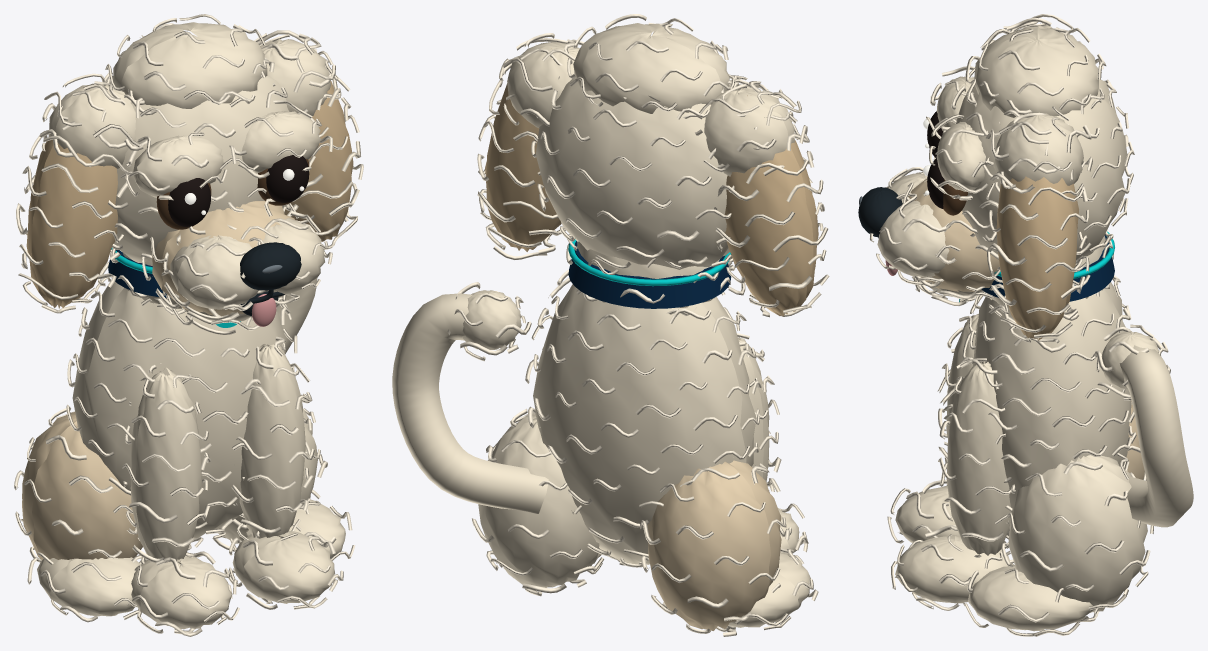
Rendered from nexi-original.glb.
The picture shows the model from 3 angles, left to right: view 1: azimuth 30°, elevation 25°; view 2: azimuth 150°, elevation 25°; view 3: azimuth 270°, elevation 25°; orthographic projection. The views are drawn at different scales.
Parts seen in each view (by area): view 1: seated_torso_sculpt, front_foreleg_sculpt (×2), long_wavy_ear_sculpt (×2), left_seated_haunch_sculpt, soft_front_paw_sculpt (×2), fluffy_cranium_sculpt, wavy_crown_sculpt, cream_ear_root_sculpt (×2), long_wavy_ear_curled_locks (×2), front_foreleg_curled_locks (×2), left_hind_foot_sculpt, left_whisker_muzzle_sculpt (+25 smaller); view 2: seated_torso_sculpt, fluffy_cranium_sculpt, long_wavy_ear_sculpt (×2), left_seated_haunch_sculpt, curl_tail_core, right_seated_haunch_sculpt, wavy_crown_sculpt, cream_ear_root_sculpt (×2), long_wavy_ear_curled_locks (×2), seated_torso_curled_locks, navy_tech_collar, fluffy_cranium_curled_locks (+13 smaller); view 3: seated_torso_sculpt, right_seated_haunch_sculpt, long_wavy_ear_sculpt, front_foreleg_sculpt (×2), fluffy_cranium_sculpt, curl_tail_core, wavy_crown_sculpt, soft_front_paw_sculpt (×2), right_hind_foot_sculpt, cream_ear_root_sculpt, long_wavy_ear_curled_locks, seated_torso_curled_locks (+23 smaller).
Boxes of the visible parts, <box> form: seated_torso_sculpt: <box>72,281,286,538</box>; front_foreleg_sculpt (×2): <box>130,344,305,564</box>; long_wavy_ear_sculpt (×2): <box>26,81,353,308</box>; left_seated_haunch_sculpt: <box>22,412,142,559</box>; soft_front_paw_sculpt (×2): <box>131,530,334,629</box>; fluffy_cranium_sculpt: <box>106,75,289,262</box>; wavy_crown_sculpt: <box>113,22,267,108</box>; cream_ear_root_sculpt (×2): <box>48,38,330,168</box>; long_wavy_ear_curled_locks (×2): <box>16,34,363,313</box>; front_foreleg_curled_locks (×2): <box>122,336,314,565</box>; left_hind_foot_sculpt: <box>37,557,140,616</box>; left_whisker_muzzle_sculpt: <box>170,235,258,309</box>; seated_torso_sculpt: <box>533,284,756,564</box>; fluffy_cranium_sculpt: <box>536,77,737,269</box>; long_wavy_ear_sculpt (×2): <box>485,48,818,315</box>; left_seated_haunch_sculpt: <box>647,460,781,630</box>; curl_tail_core: <box>392,293,548,513</box>; right_seated_haunch_sculpt: <box>478,413,599,587</box>; wavy_crown_sculpt: <box>573,23,729,113</box>; cream_ear_root_sculpt (×2): <box>507,42,794,176</box>; long_wavy_ear_curled_locks (×2): <box>477,38,829,317</box>; seated_torso_curled_locks: <box>525,269,761,567</box>; navy_tech_collar: <box>568,241,731,308</box>; fluffy_cranium_curled_locks: <box>531,35,740,277</box>; seated_torso_sculpt: <box>973,282,1131,508</box>; right_seated_haunch_sculpt: <box>1008,455,1147,612</box>; long_wavy_ear_sculpt: <box>996,176,1078,340</box>; front_foreleg_sculpt (×2): <box>946,313,1011,555</box>; fluffy_cranium_sculpt: <box>956,79,1127,259</box>; curl_tail_core: <box>1119,345,1193,527</box>; wavy_crown_sculpt: <box>974,28,1101,117</box>; soft_front_paw_sculpt (×2): <box>895,486,1013,603</box>; right_hind_foot_sculpt: <box>968,565,1094,631</box>; cream_ear_root_sculpt: <box>993,112,1083,185</box>; long_wavy_ear_curled_locks: <box>982,113,1089,343</box>; seated_torso_curled_locks: <box>962,275,1136,511</box>.
Bounding box in the file's own units: 2 × 3.01 × 1.66.
